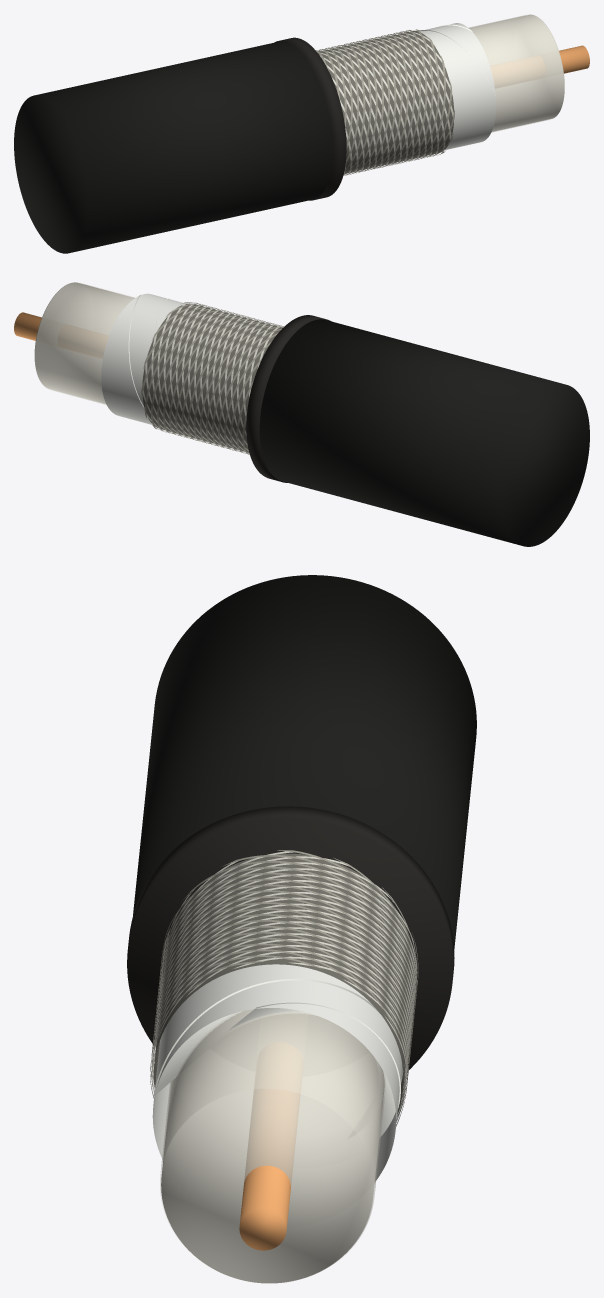
File: rf-belden1694a.glb
The picture shows the model from 3 angles, top to bottom: view 1: azimuth 30°, elevation 25°; view 2: azimuth 150°, elevation 25°; view 3: azimuth 270°, elevation 25°; orthographic projection. The views are drawn at different scales.
Parts seen in each view (by area): view 1: matte black pvc jacket body, braid dark diamond recess, gas injected foam dielectric, smooth dielectric skin, duobond foil sleeve, jacket cut lip, solid center conductor continuous, braid left hand woven carrier 12, braid left hand woven carrier 11, braid left hand woven carrier 13, braid left hand woven carrier 14, braid left hand woven carrier 10 (+15 smaller); view 2: matte black pvc jacket body, braid dark diamond recess, gas injected foam dielectric, smooth dielectric skin, duobond foil sleeve, jacket cut lip, solid center conductor continuous, braid left hand woven carrier 07, braid left hand woven carrier 08, braid left hand woven carrier 06, braid left hand woven carrier 09, braid left hand woven carrier 10 (+13 smaller); view 3: matte black pvc jacket body, gas injected foam dielectric, jacket cut lip, braid dark diamond recess, smooth dielectric skin, duobond foil sleeve, solid center conductor continuous, subtle foil wrap lap, braid left hand woven carrier 09, braid left hand woven carrier 10, braid left hand woven carrier 08, braid left hand woven carrier 07 (+7 smaller).
Part boxes in pixels (bbox=[...]): matte black pvc jacket body: bbox=[14, 41, 332, 253]; braid dark diamond recess: bbox=[318, 31, 454, 173]; gas injected foam dielectric: bbox=[469, 14, 564, 131]; smooth dielectric skin: bbox=[469, 14, 563, 132]; duobond foil sleeve: bbox=[420, 23, 496, 150]; jacket cut lip: bbox=[274, 37, 346, 200]; solid center conductor continuous: bbox=[559, 45, 589, 73]; braid left hand woven carrier 12: bbox=[331, 37, 439, 163]; braid left hand woven carrier 11: bbox=[325, 29, 433, 164]; braid left hand woven carrier 13: bbox=[337, 45, 445, 163]; braid left hand woven carrier 14: bbox=[344, 43, 451, 171]; braid left hand woven carrier 10: bbox=[319, 30, 427, 165]; matte black pvc jacket body: bbox=[259, 319, 589, 546]; braid dark diamond recess: bbox=[142, 303, 282, 452]; gas injected foam dielectric: bbox=[34, 282, 134, 403]; smooth dielectric skin: bbox=[35, 282, 134, 404]; duobond foil sleeve: bbox=[101, 293, 184, 424]; jacket cut lip: bbox=[246, 315, 330, 482]; solid center conductor continuous: bbox=[14, 312, 41, 340]; braid left hand woven carrier 07: bbox=[145, 310, 262, 451]; braid left hand woven carrier 08: bbox=[141, 308, 271, 450]; braid left hand woven carrier 06: bbox=[151, 312, 253, 453]; braid left hand woven carrier 09: bbox=[143, 307, 277, 448]; braid left hand woven carrier 10: bbox=[152, 305, 281, 447]; matte black pvc jacket body: bbox=[133, 575, 476, 948]; gas injected foam dielectric: bbox=[161, 1009, 384, 1283]; jacket cut lip: bbox=[127, 806, 454, 1070]; braid dark diamond recess: bbox=[153, 853, 414, 1114]; smooth dielectric skin: bbox=[160, 1009, 385, 1283]; duobond foil sleeve: bbox=[152, 964, 401, 1181]; solid center conductor continuous: bbox=[239, 1088, 299, 1250]; subtle foil wrap lap: bbox=[153, 979, 403, 1138]; braid left hand woven carrier 09: bbox=[153, 860, 415, 1051]; braid left hand woven carrier 10: bbox=[153, 866, 414, 1059]; braid left hand woven carrier 08: bbox=[154, 855, 415, 1091]; braid left hand woven carrier 07: bbox=[155, 850, 416, 1126].
Size of the model in its own units: 6.54 by 1.76 by 1.89.
